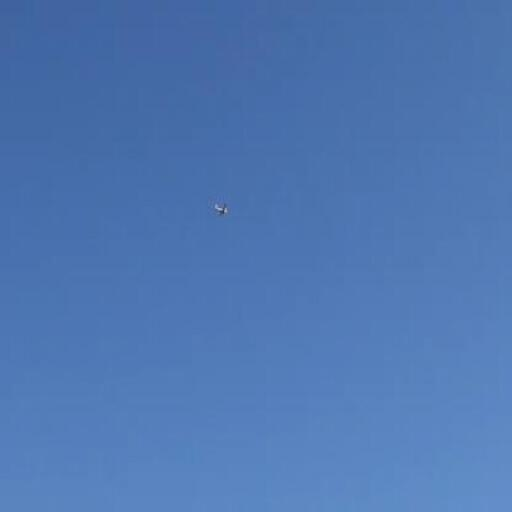aircraft: (214, 203, 228, 218)
